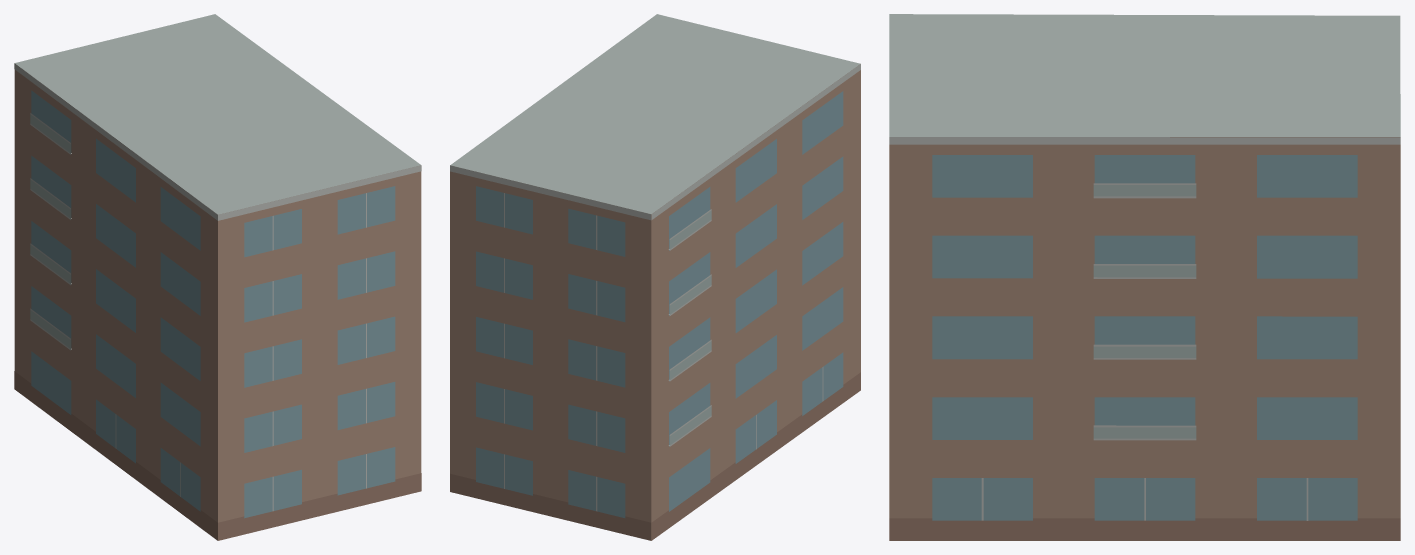
File: survey-upis-32874560.glb
3 renders of one model, left to right at view 1: azimuth 30°, elevation 25°; view 2: azimuth 150°, elevation 25°; view 3: azimuth 270°, elevation 25°, orthographic. The views are drawn at different scales.
Parts seen in each view (by area): view 1: survey-upis-32874560.tmp; view 2: survey-upis-32874560.tmp; view 3: survey-upis-32874560.tmp.
Boxes of the visible parts, <box> form: survey-upis-32874560.tmp: <box>14,14,421,540</box>; survey-upis-32874560.tmp: <box>450,14,860,540</box>; survey-upis-32874560.tmp: <box>889,14,1400,540</box>.
Bounding box in the file's own units: 8.54 × 13 × 14.93.
